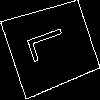L: (26, 22, 77, 64)
